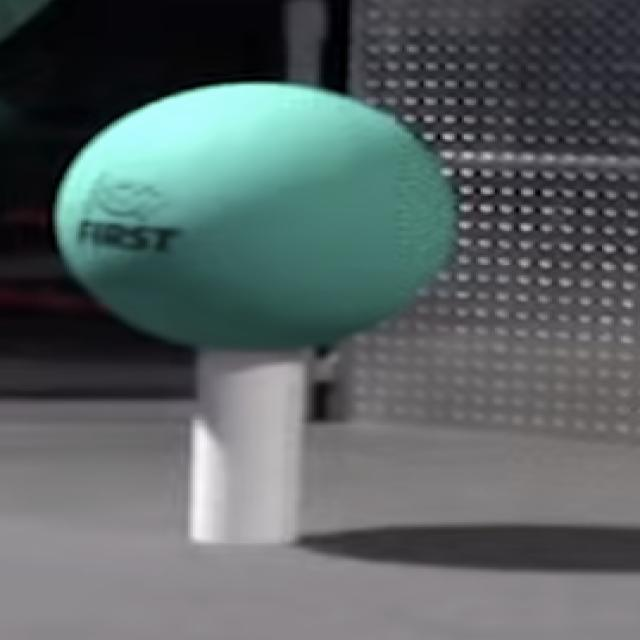Algae: (55, 84, 456, 349)
Coral: (189, 350, 316, 544)
